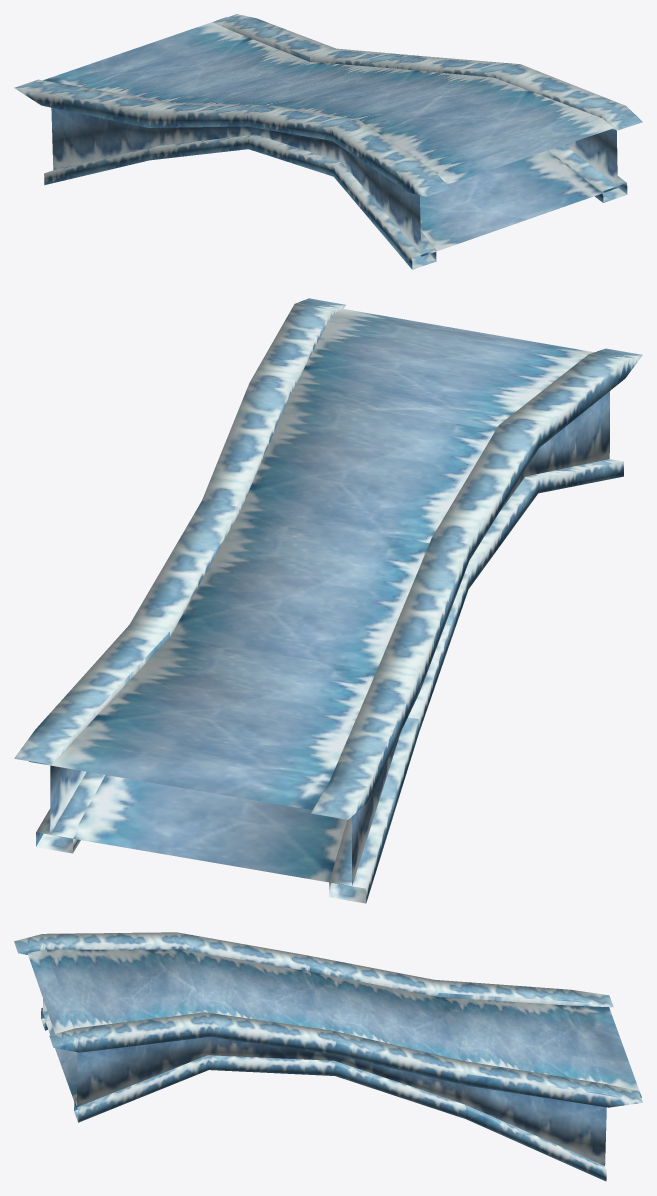
File: snow_02_floor_04.FBX
3 views of the same model, one above another, from view 1: azimuth 30°, elevation 25°; view 2: azimuth 150°, elevation 25°; view 3: azimuth 270°, elevation 25° (orthographic). The views are drawn at different scales.
Parts seen in each view (by area): view 1: floor4; view 2: floor4; view 3: floor4.
Part boxes in pixels (left/top/right/bottom): floor4: left=14, top=14, right=642, bottom=269; floor4: left=14, top=298, right=642, bottom=903; floor4: left=14, top=932, right=642, bottom=1181.
Size of the model in its own units: 23.28 by 13.11 by 41.42.
